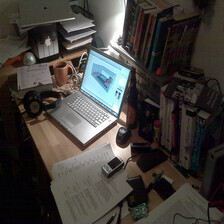laptop: (37, 57, 127, 153)
